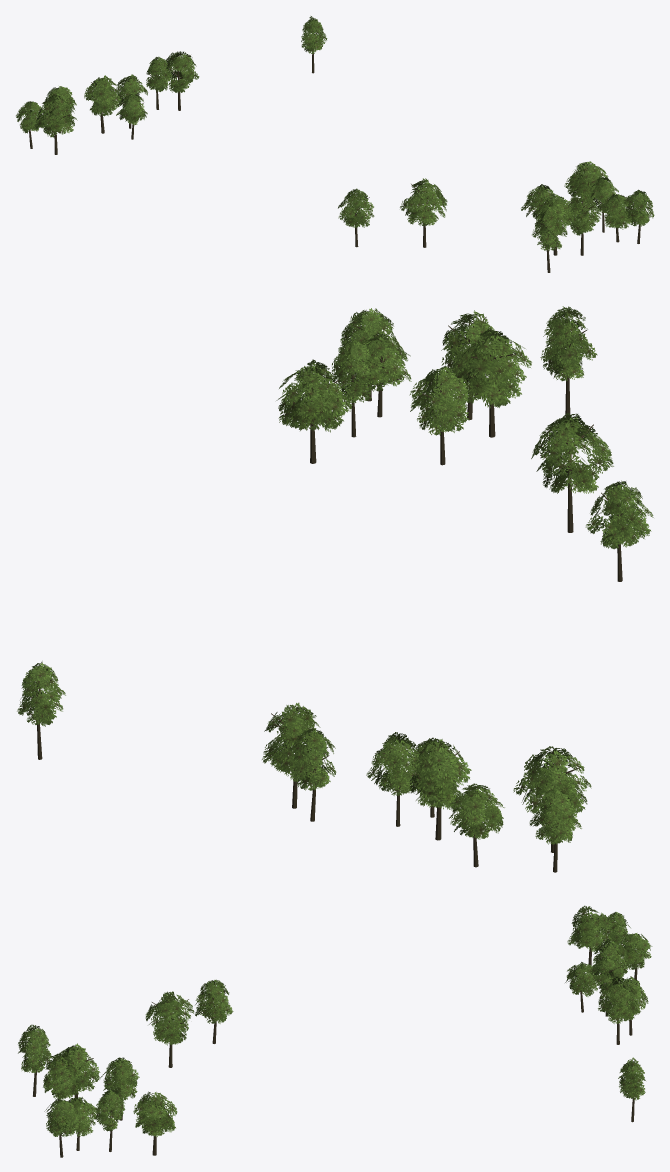
The model's file is TRB8-FOREST-CHUNK-2-3.glb.
The picture shows the model from 3 angles, top to bottom: view 1: azimuth 30°, elevation 25°; view 2: azimuth 150°, elevation 25°; view 3: azimuth 270°, elevation 25°; orthographic projection. The views are drawn at different scales.
Visible parts, largest first — view 1: TRB8-FOREST-CHUNK-2-3; view 2: TRB8-FOREST-CHUNK-2-3; view 3: TRB8-FOREST-CHUNK-2-3.
Boxes of the visible parts, left/top/right/bottom form: TRB8-FOREST-CHUNK-2-3: left=16, top=16, right=654, bottom=272; TRB8-FOREST-CHUNK-2-3: left=17, top=306, right=653, bottom=872; TRB8-FOREST-CHUNK-2-3: left=18, top=905, right=652, bottom=1157.
Bounding box in the file's own units: 32.32 × 5.81 × 41.8.
Materials: 2 (1 with a texture image).
